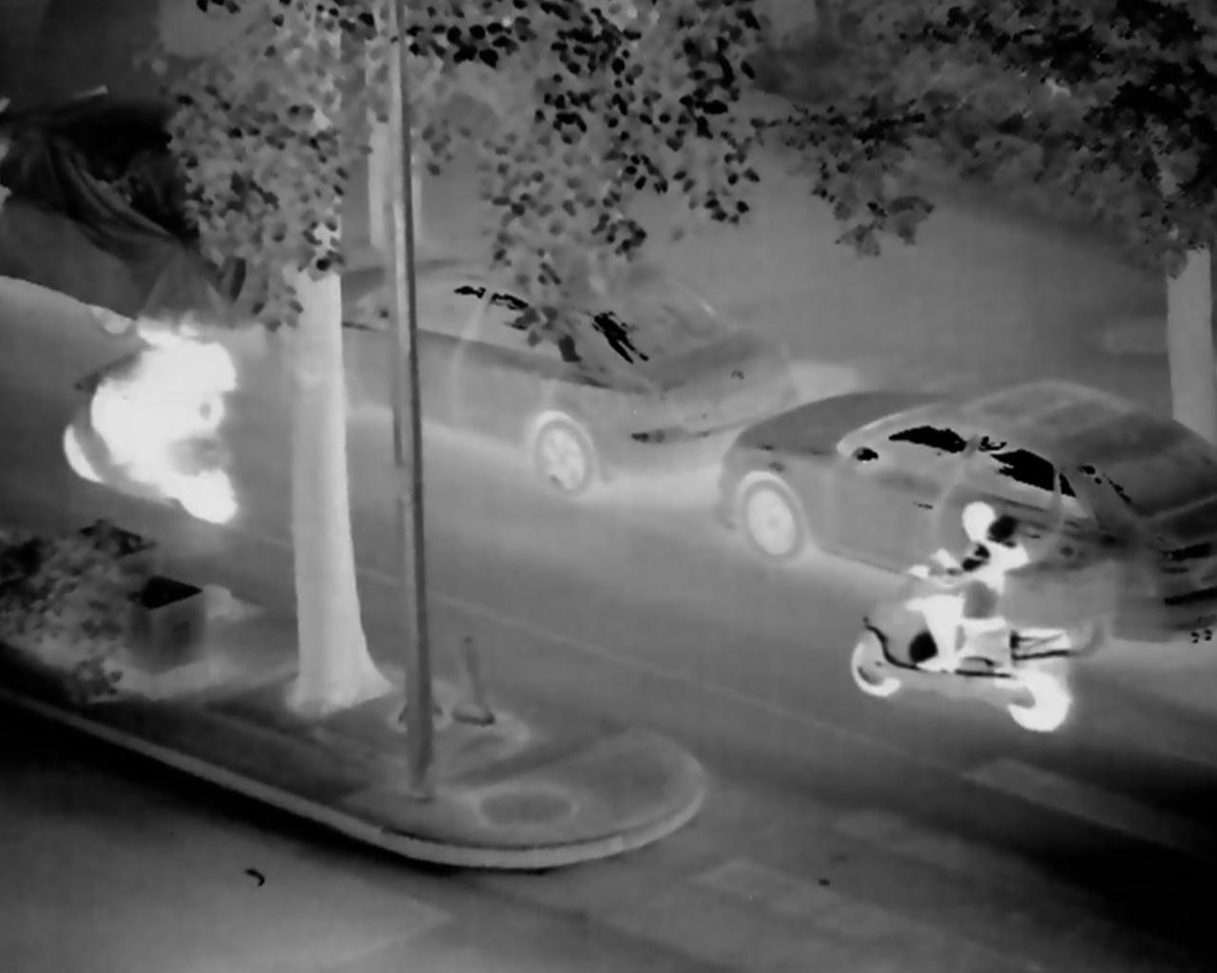person: (886, 501, 1081, 711), (57, 290, 234, 514)
